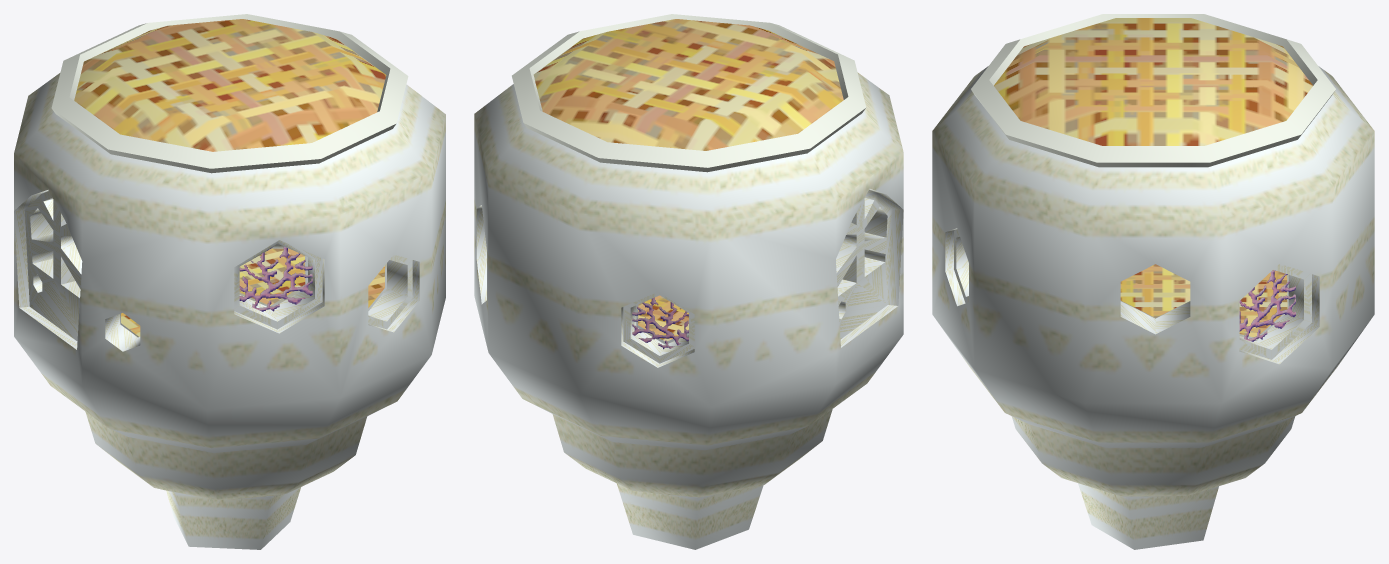
The model's file is WaterPlatformBounce.obj.
The picture shows the model from 3 angles, left to right: view 1: azimuth 30°, elevation 25°; view 2: azimuth 150°, elevation 25°; view 3: azimuth 270°, elevation 25°; orthographic projection.
Bounding box in the file's own units: 80.24 × 96.29 × 84.37.
Materials: 3 (3 with a texture image).
